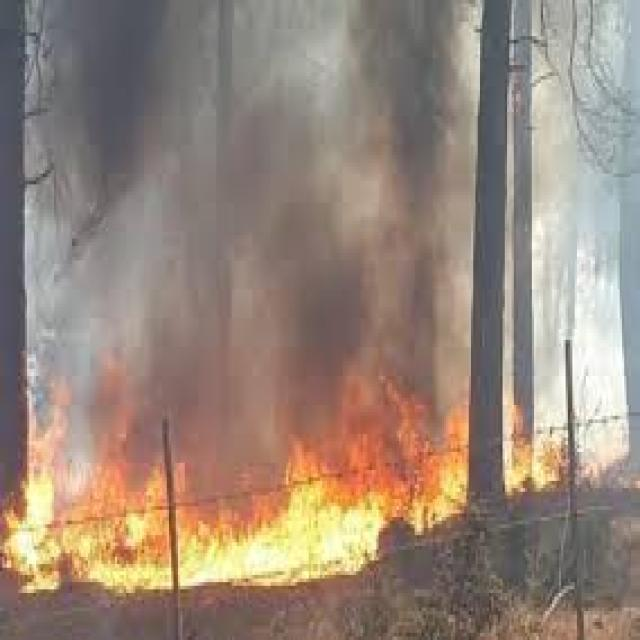Fire: (0, 376, 110, 596), (268, 412, 387, 583), (176, 440, 292, 601), (374, 368, 468, 536), (44, 458, 163, 590)
Smoke: (123, 219, 300, 452), (340, 0, 452, 354), (238, 89, 366, 398), (60, 0, 189, 210)
